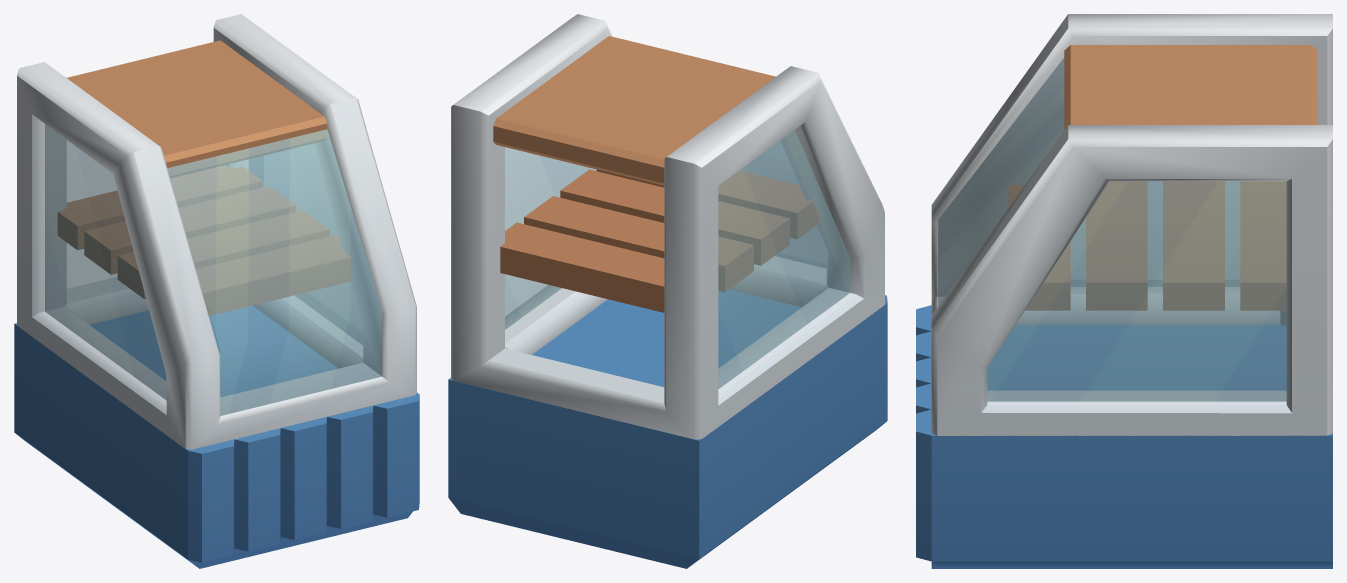
Rendered from display-case-short.glb.
3 renders of one model, left to right at view 1: azimuth 30°, elevation 25°; view 2: azimuth 150°, elevation 25°; view 3: azimuth 270°, elevation 25°, orthographic. The views are drawn at different scales.
Visible parts, largest first — view 1: display_case_short; view 2: display_case_short; view 3: display_case_short.
Boxes of the visible parts, bbox=[...] form: display_case_short: bbox=[14, 14, 419, 568]; display_case_short: bbox=[448, 14, 887, 568]; display_case_short: bbox=[916, 14, 1332, 568].
Size of the model in its own units: 1 by 1.55 by 1.35.
Materials: 2 (2 with a texture image).
